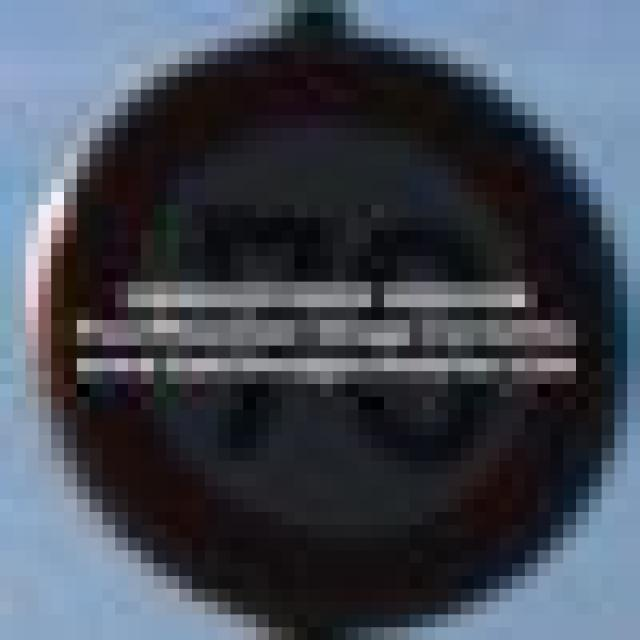SPEED_LIMIT_70: (26, 38, 602, 614)
